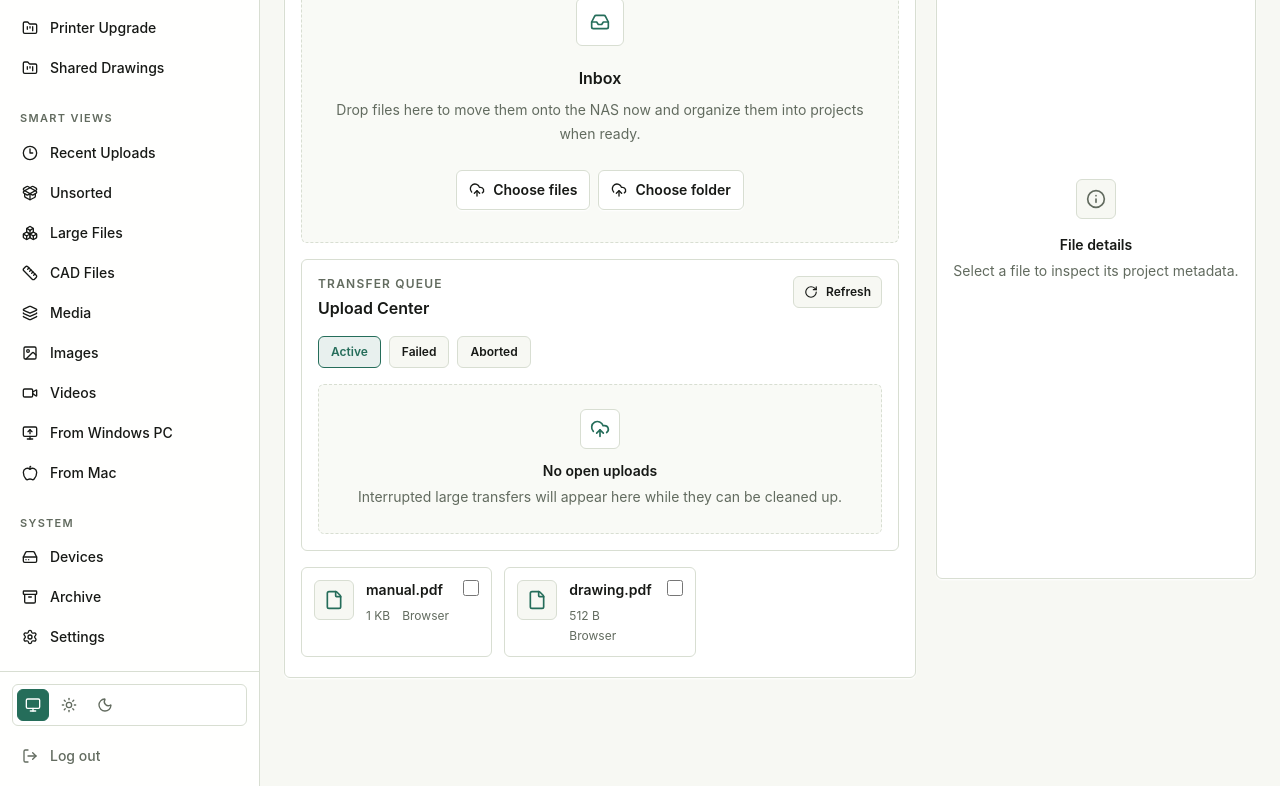
Test: AppShell › treats files in view-only projects as read-only and doesn't offer those projects as destinations
This screenshot has width=1280, height=786.
(page scrolled)
Click the button "drawing.pdf 512 B Browser" at (600, 612), box [505,568,695,656]
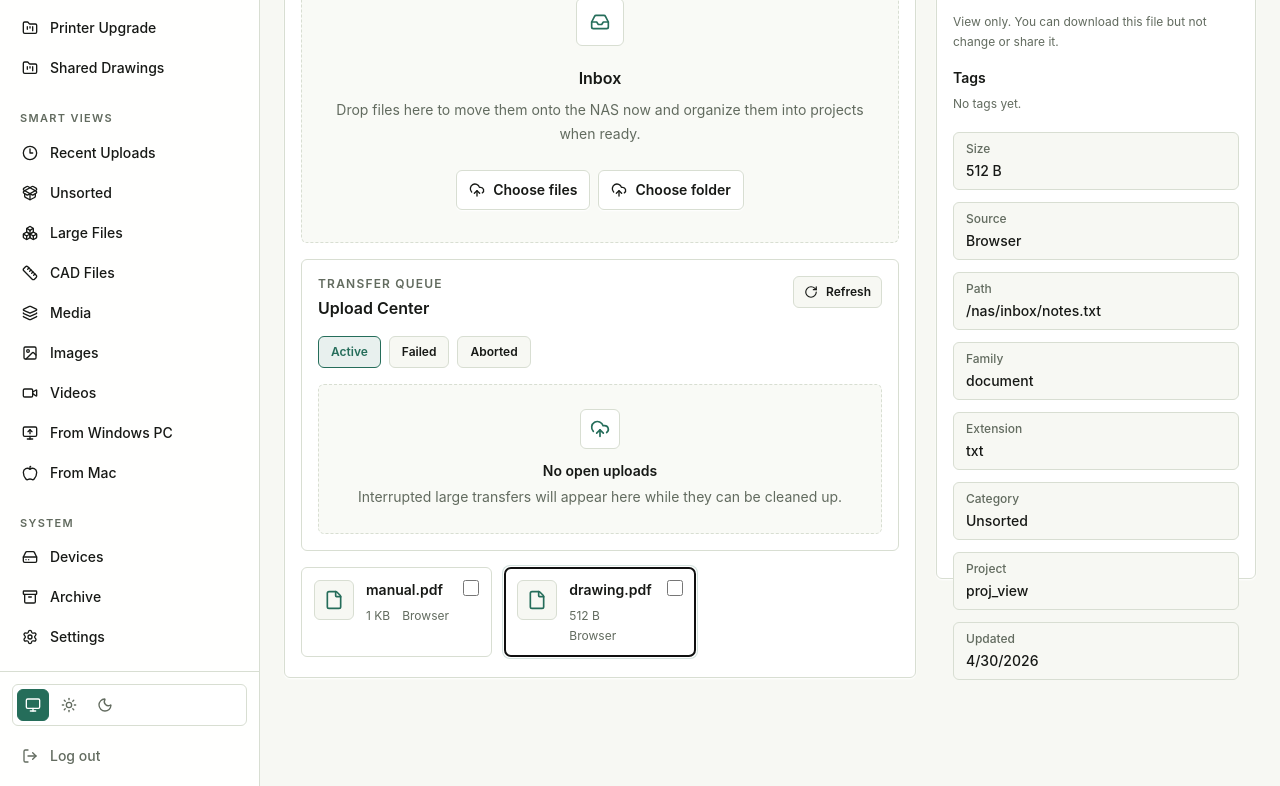
Click the button "manual.pdf 1 KB Browser" at (397, 602), box [302,568,491,636]
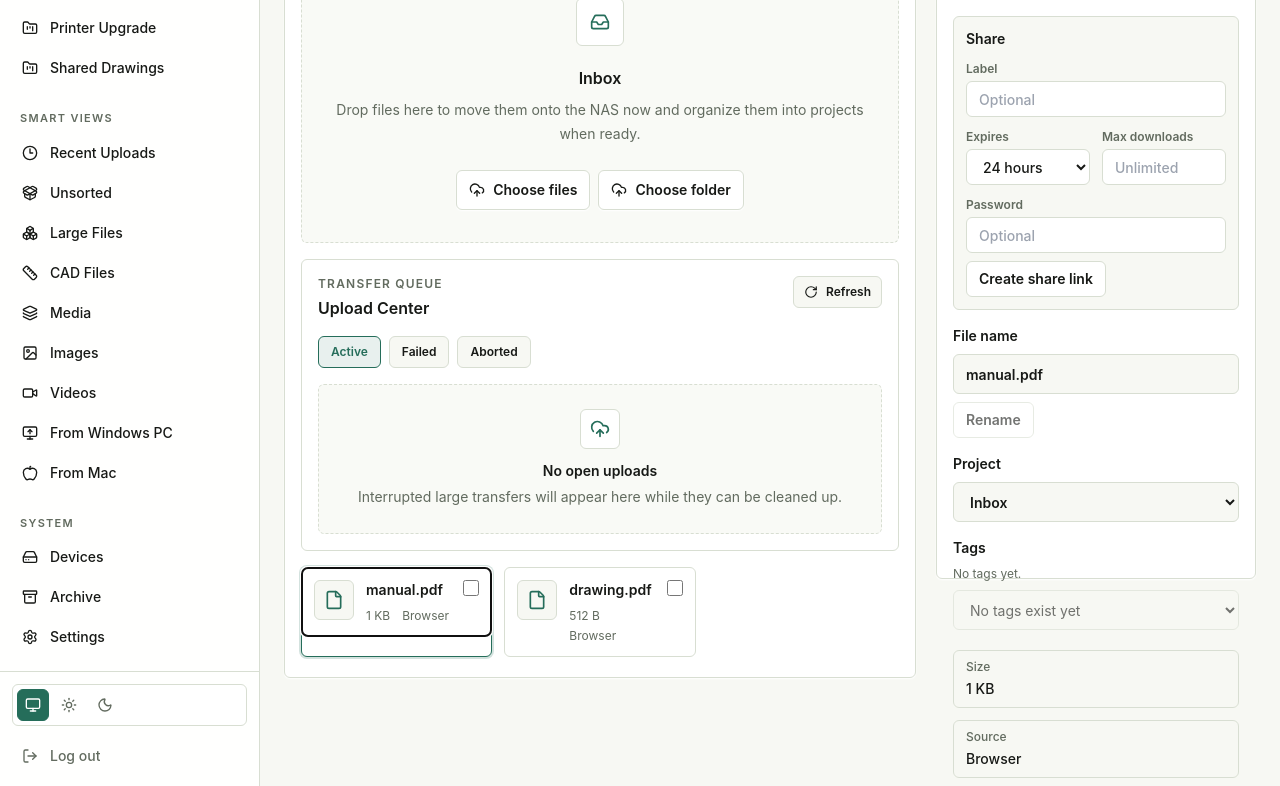
Click the checkbox named "Select drawing.pdf" at (675, 588), box [667,580,683,596]
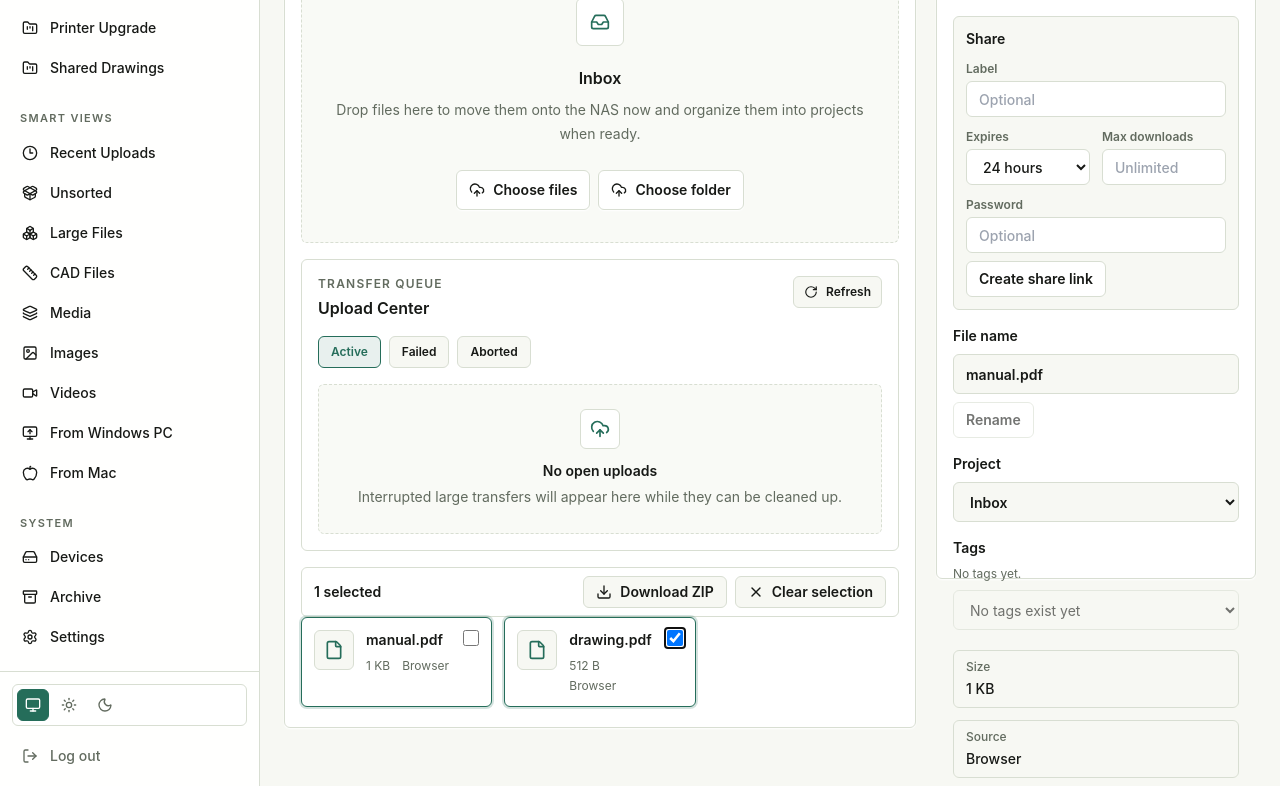
Result: the link "Download ZIP" is shown at [583,576,727,608]
